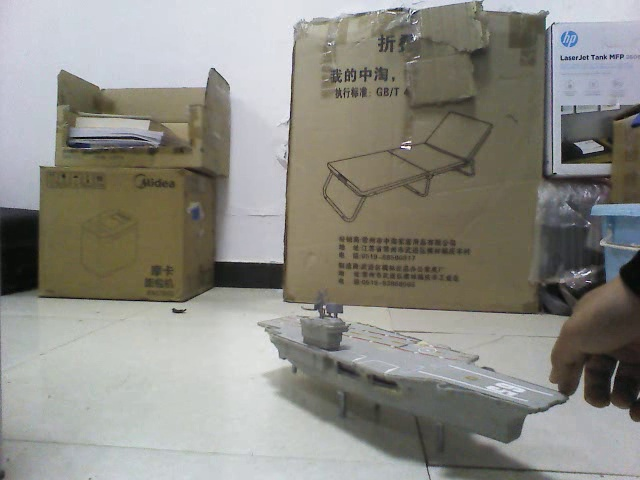aircraft_carrier: (258, 293, 569, 445)
